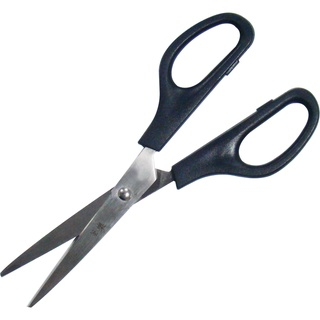scissors: (1, 9, 320, 311)
